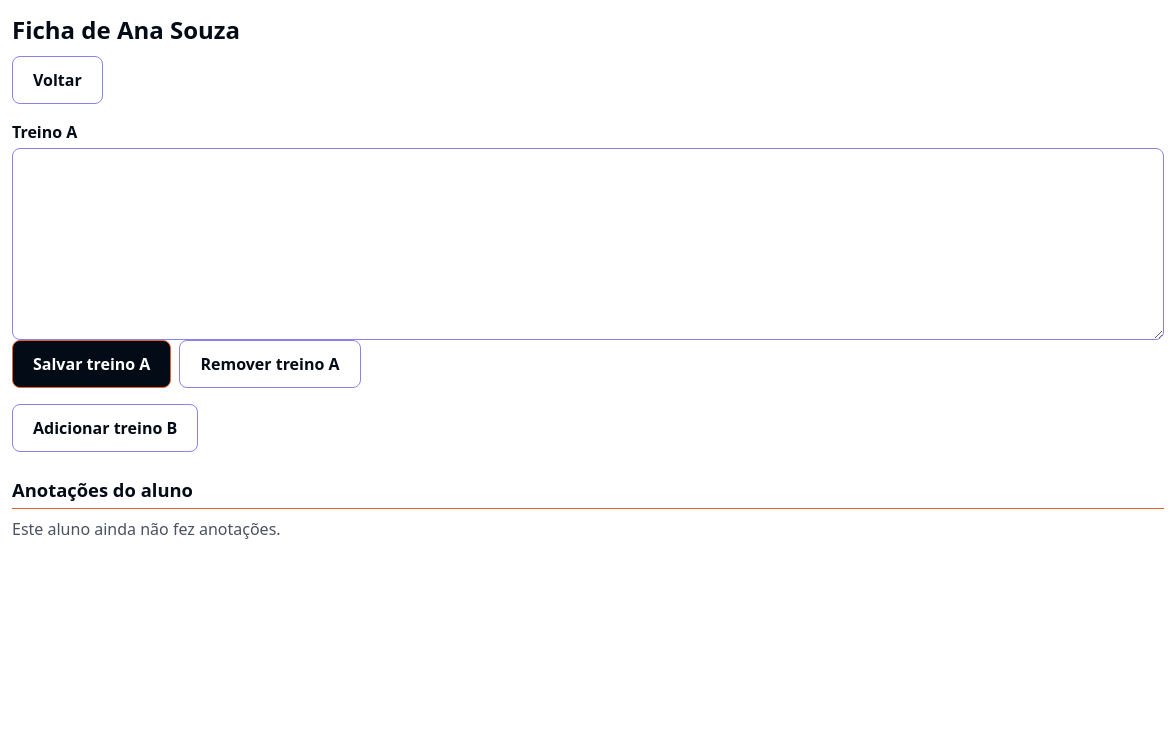
Test: FichaAluno › mostra mensagem de erro quando não consegue salvar
The width and height of the screenshot is (1176, 732).
Click the button "Salvar treino A".
click(92, 364)  # box [12, 340, 171, 388]
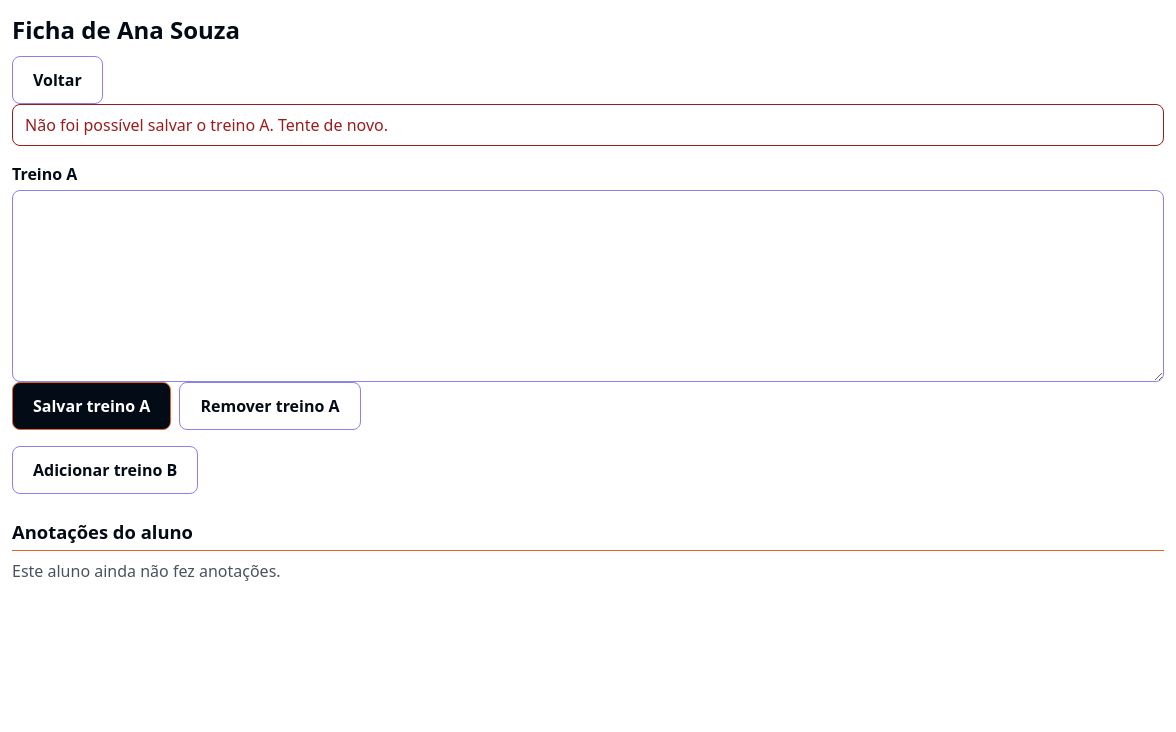
Now the message shows "Não foi possível salvar", box [25, 114, 388, 136]
